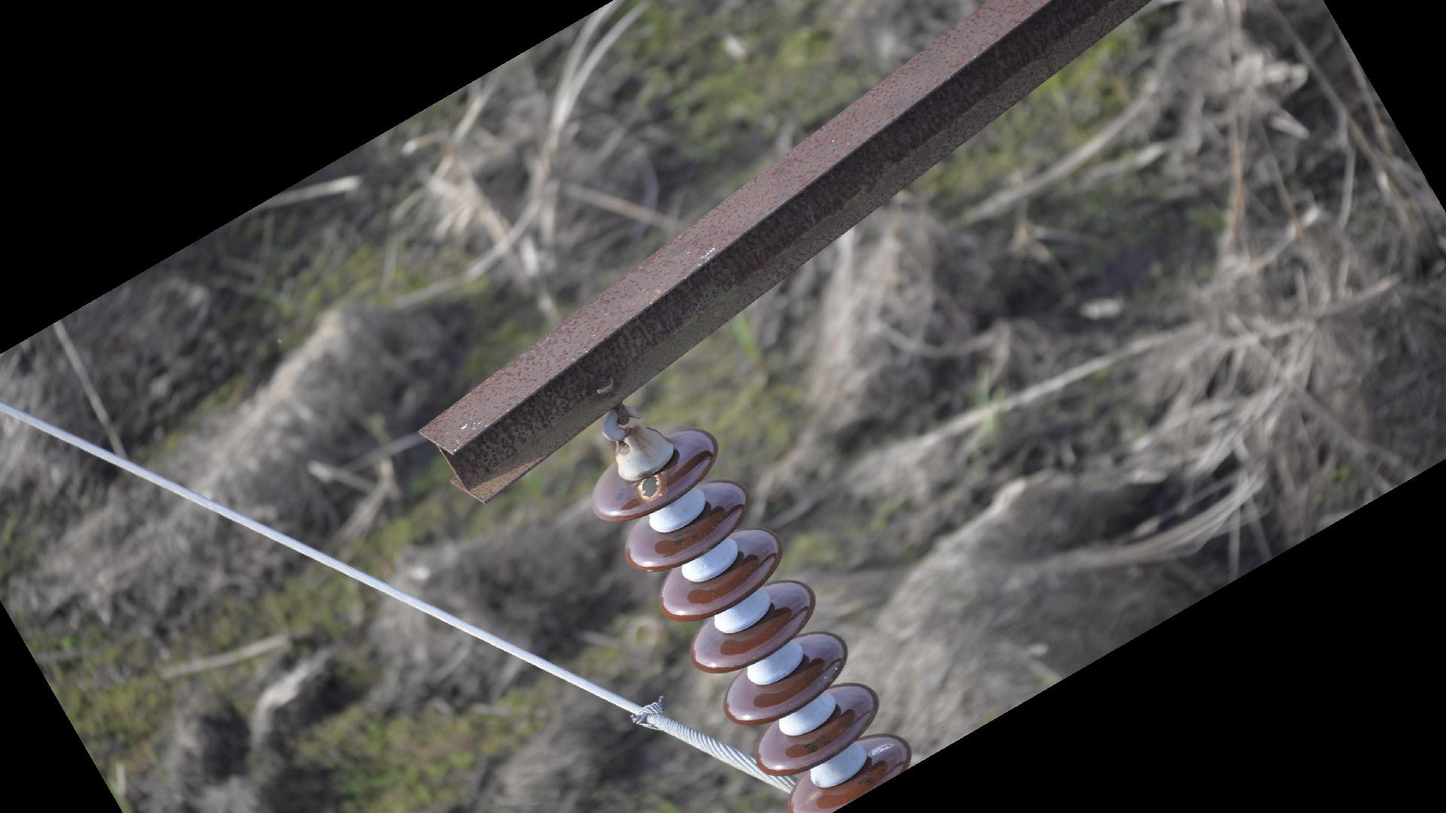insulator: (584, 423, 917, 813)
insulator_flashover: (635, 471, 666, 502), (866, 741, 895, 759)
